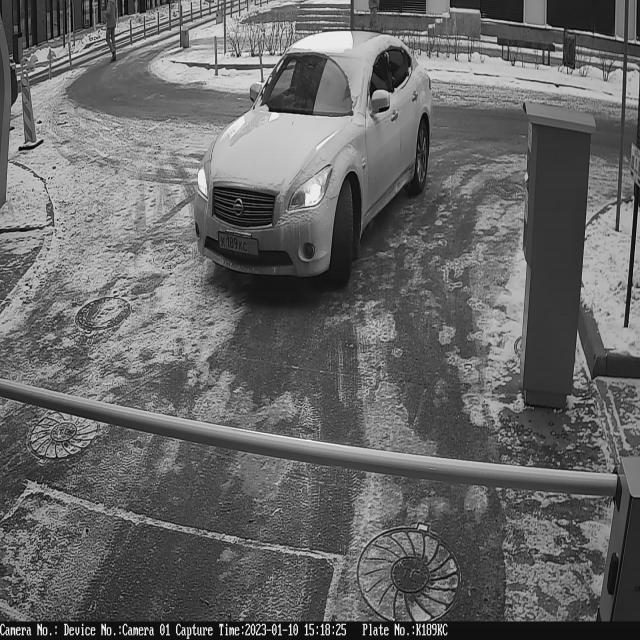car-plate-numbers: (217, 227, 261, 260)
